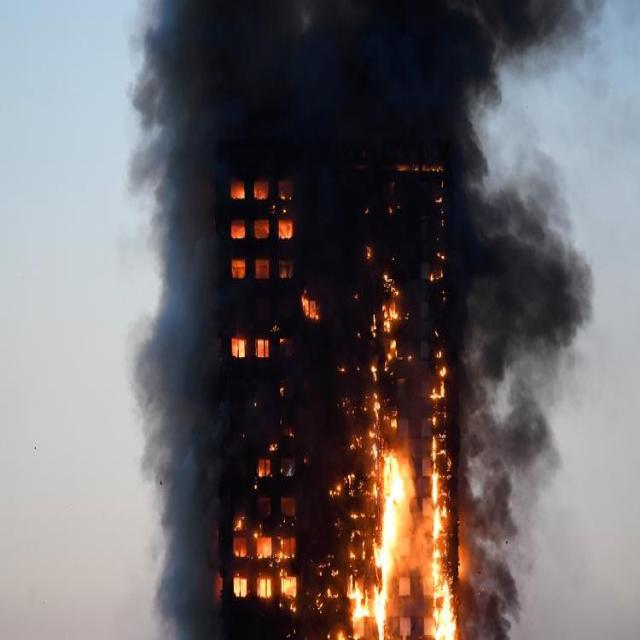Fire: (351, 455, 404, 640), (428, 470, 456, 640)
Smoke: (459, 2, 589, 640), (132, 0, 219, 640), (218, 1, 458, 156)
